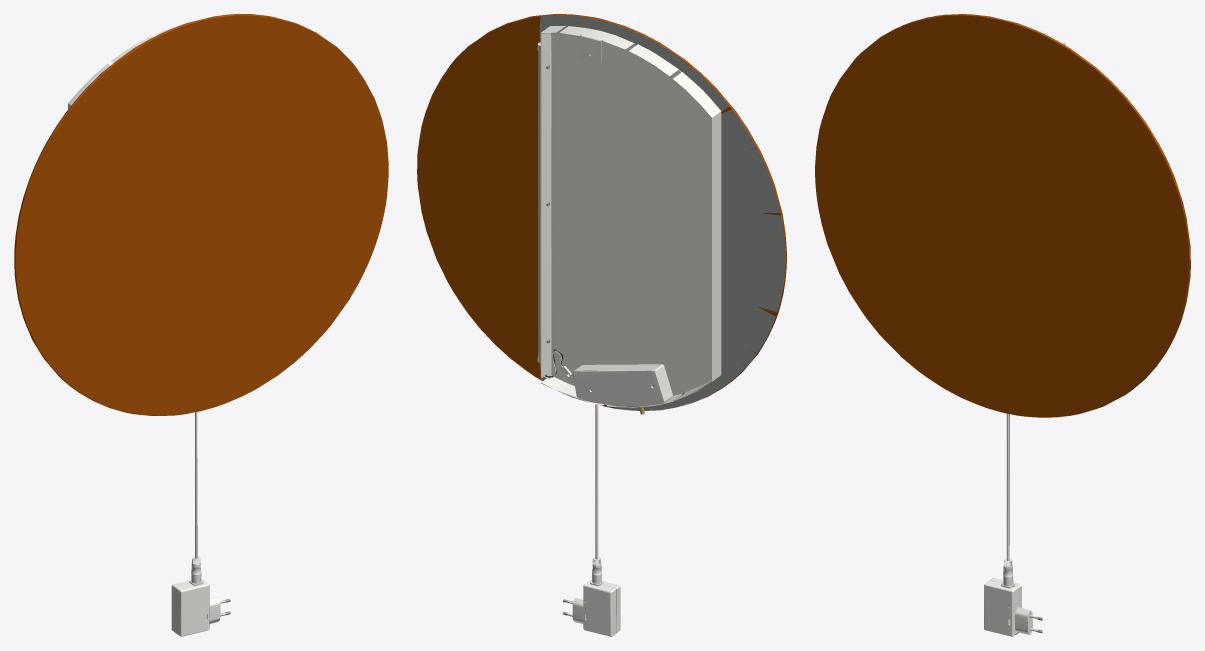
The model's file is varmblixt_lampa_scienna_lustra_led_10531541.glb.
3 views of the same model, side by side, from view 1: azimuth 30°, elevation 25°; view 2: azimuth 150°, elevation 25°; view 3: azimuth 330°, elevation 25° (orthographic).
Visible parts, largest first — view 1: varmblixt_lampa_scienna_lustra_led_10531541; view 2: varmblixt_lampa_scienna_lustra_led_10531541; view 3: varmblixt_lampa_scienna_lustra_led_10531541.
Boxes of the visible parts, x1=… form: varmblixt_lampa_scienna_lustra_led_10531541: x1=14, y1=14, x2=388, y2=636; varmblixt_lampa_scienna_lustra_led_10531541: x1=417, y1=14, x2=786, y2=636; varmblixt_lampa_scienna_lustra_led_10531541: x1=815, y1=14, x2=1190, y2=636.
Bounding box in the file's own units: 0.5498 × 0.8629 × 0.0303.
Materials: 2 (2 with a texture image).
